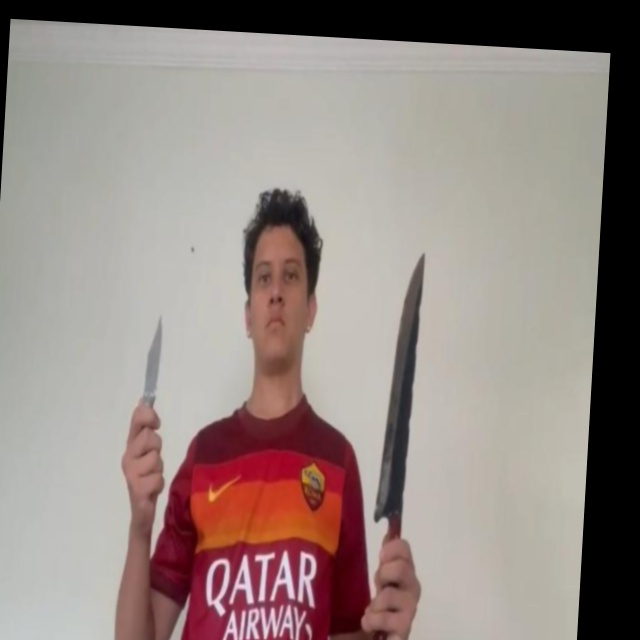Sharp-Object: (372, 245, 426, 524), (144, 309, 163, 398)
